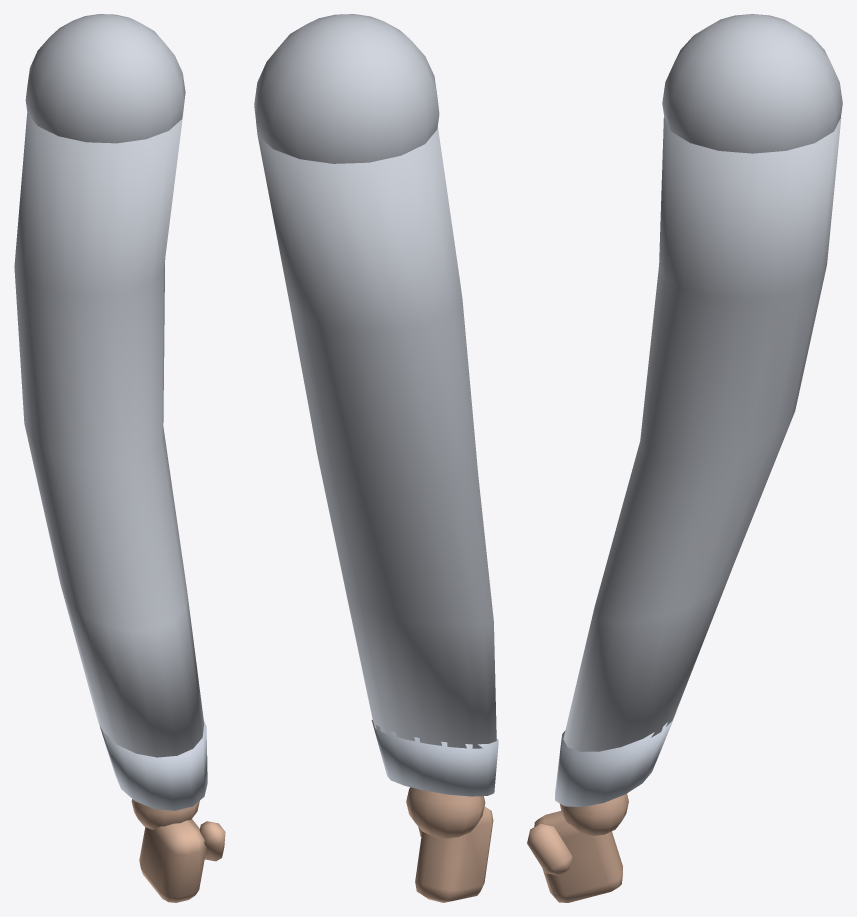
Rendered from coder_arm_r.glb.
The picture shows the model from 3 angles, left to right: view 1: azimuth 30°, elevation 25°; view 2: azimuth 150°, elevation 25°; view 3: azimuth 270°, elevation 25°; orthographic projection. The views are drawn at different scales.
Visible parts, largest first — view 1: CoderPart; view 2: CoderPart; view 3: CoderPart.
Part boxes in pixels (bbox=[...]): CoderPart: bbox=[14, 14, 225, 902]; CoderPart: bbox=[254, 14, 498, 902]; CoderPart: bbox=[527, 14, 842, 902].
Size of the model in its own units: 0.125 by 0.6157 by 0.1993.
